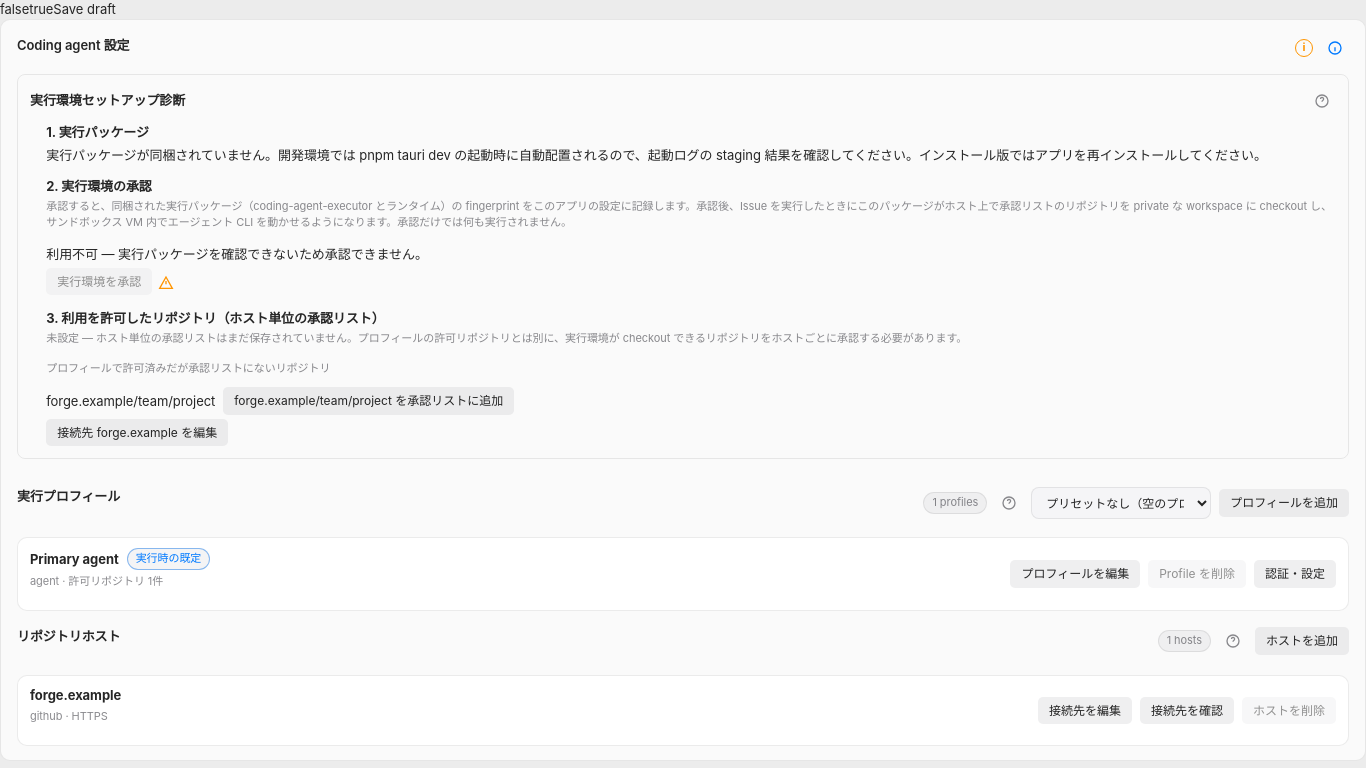
it: Coding agent settings list and dialogs › keeps an invalid repository draft visible and blocks the shared save
This screenshot has width=1366, height=768.
Click the button "プロフィールを編集" at (1075, 574), box [1010,560,1140,588]
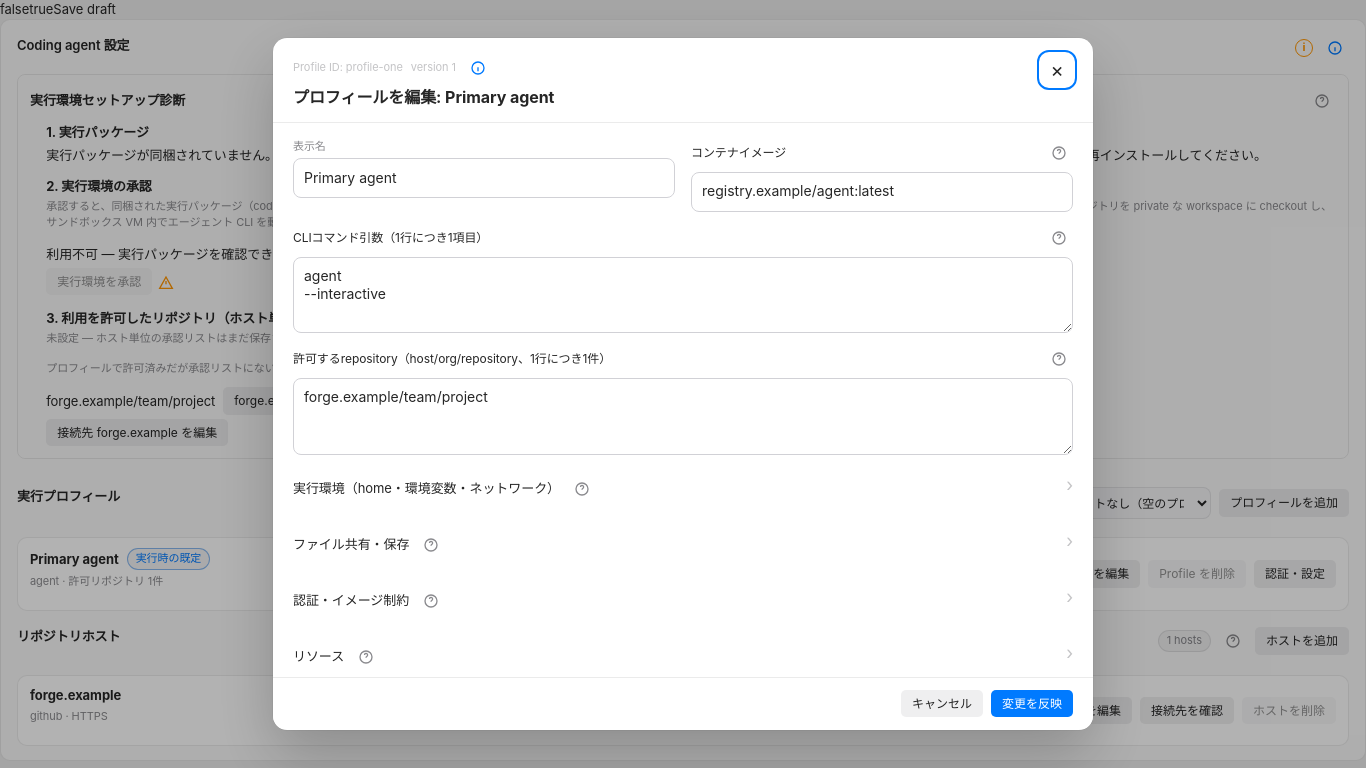
Replace the text in the text box labelled "許可するrepository（host/org/repository、1行につき1件）" with "missing.example/team/project" at (683, 417), box [293,378,1073,455]
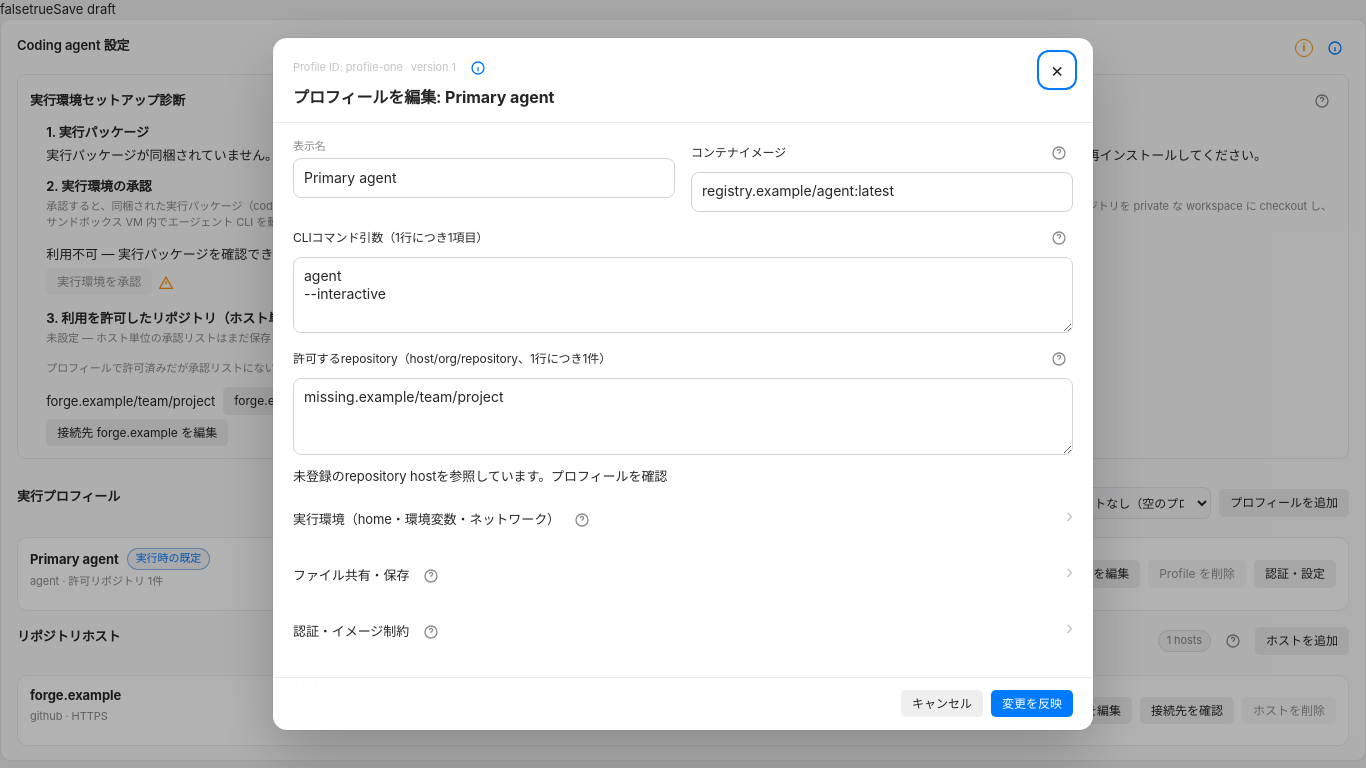
Click the button "変更を反映" at (1032, 704), box [991,690,1073,718]
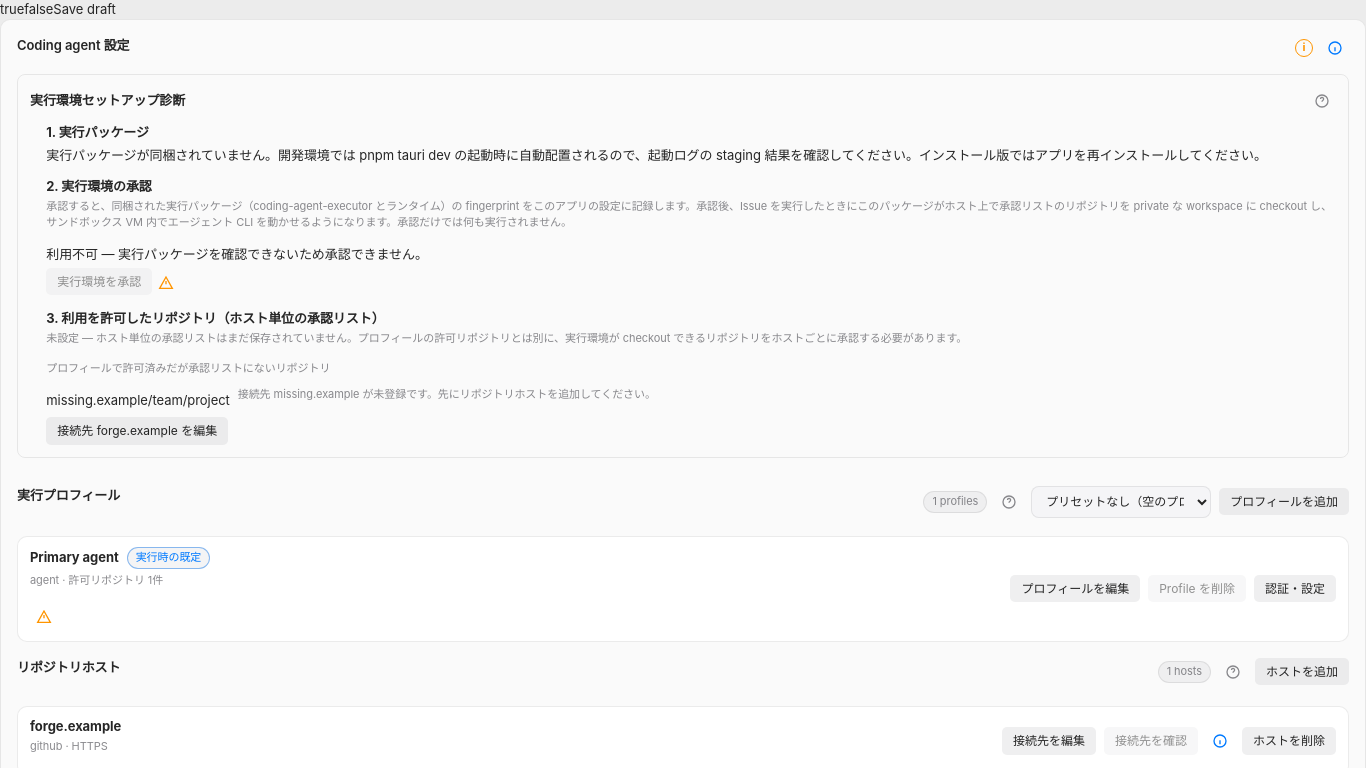
Check: the button named "未登録のrepository hostを参照しています。プロフィールを確認" is shown, box [22,594,66,638]
Check: the text with test id "editor-dirty" reads "true", box [0,1,24,17]
Check: the text with test id "editor-valid" reads "false", box [24,1,53,17]
